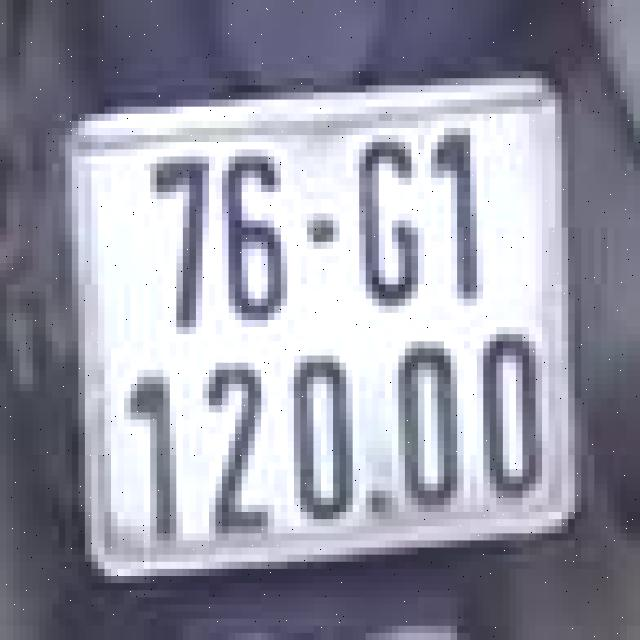0: (388, 334, 461, 505), (287, 352, 353, 530), (477, 327, 542, 505)
1: (120, 366, 180, 551), (431, 124, 483, 310)
2: (202, 359, 274, 537)
6: (225, 153, 297, 331)
7: (147, 149, 219, 327)
G: (353, 135, 431, 313)
